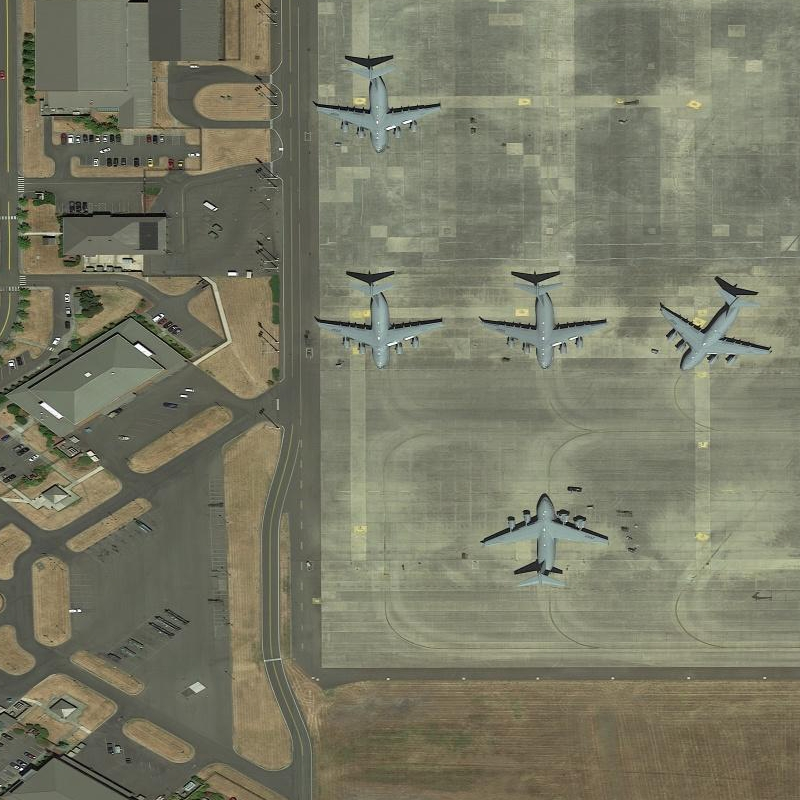A3: (304, 50, 445, 158), (477, 488, 614, 591), (314, 267, 447, 373), (475, 270, 615, 370), (654, 276, 776, 375)
